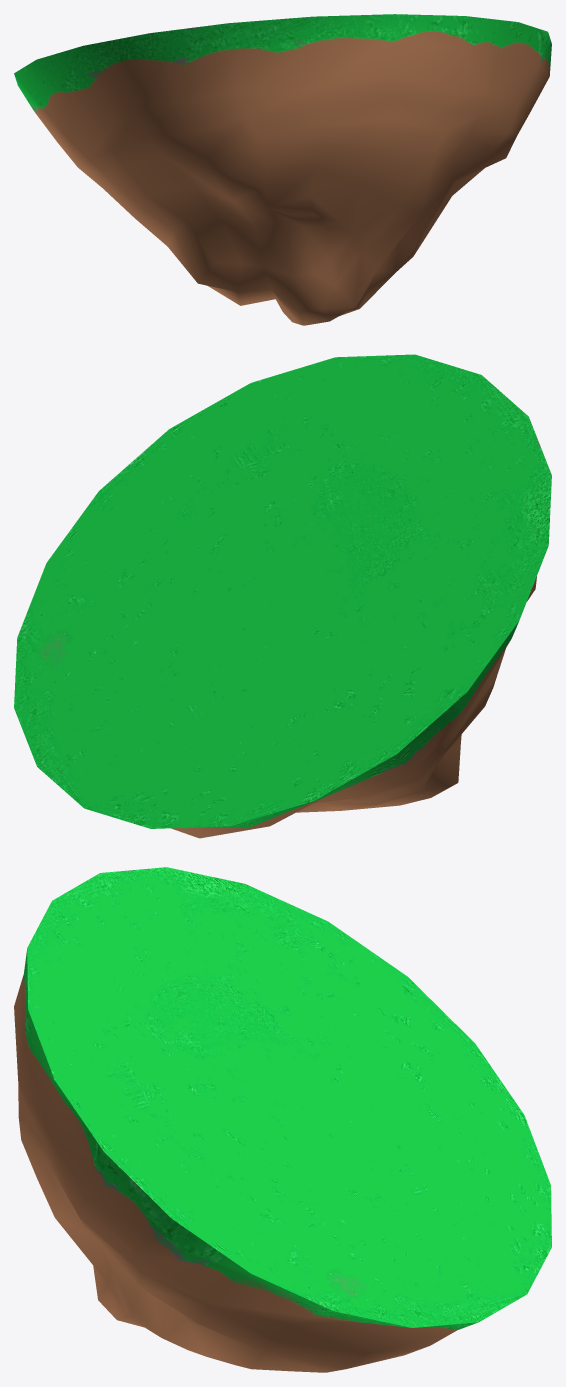
File: Floating-Island-LowPoly.fbx
The picture shows the model from 3 angles, top to bottom: view 1: azimuth 30°, elevation 25°; view 2: azimuth 150°, elevation 25°; view 3: azimuth 270°, elevation 25°; orthographic projection. The views are drawn at different scales.
Parts seen in each view (by area): view 1: node_id3; view 2: node_id3; view 3: node_id3.
Boxes of the visible parts, box(x1,y1,x2,y2) form: node_id3: box(14, 14, 551, 325); node_id3: box(14, 354, 551, 838); node_id3: box(14, 867, 551, 1372).
Size of the model in its own units: 0.5002 by 0.3638 by 0.4458.
Materials: 1 (1 with a texture image).
